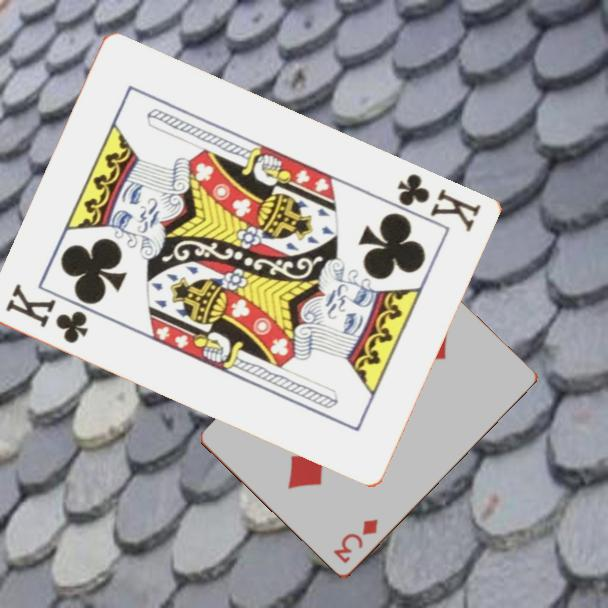c13: (392, 170, 484, 236), (1, 280, 91, 347)
d03: (330, 516, 381, 567)
